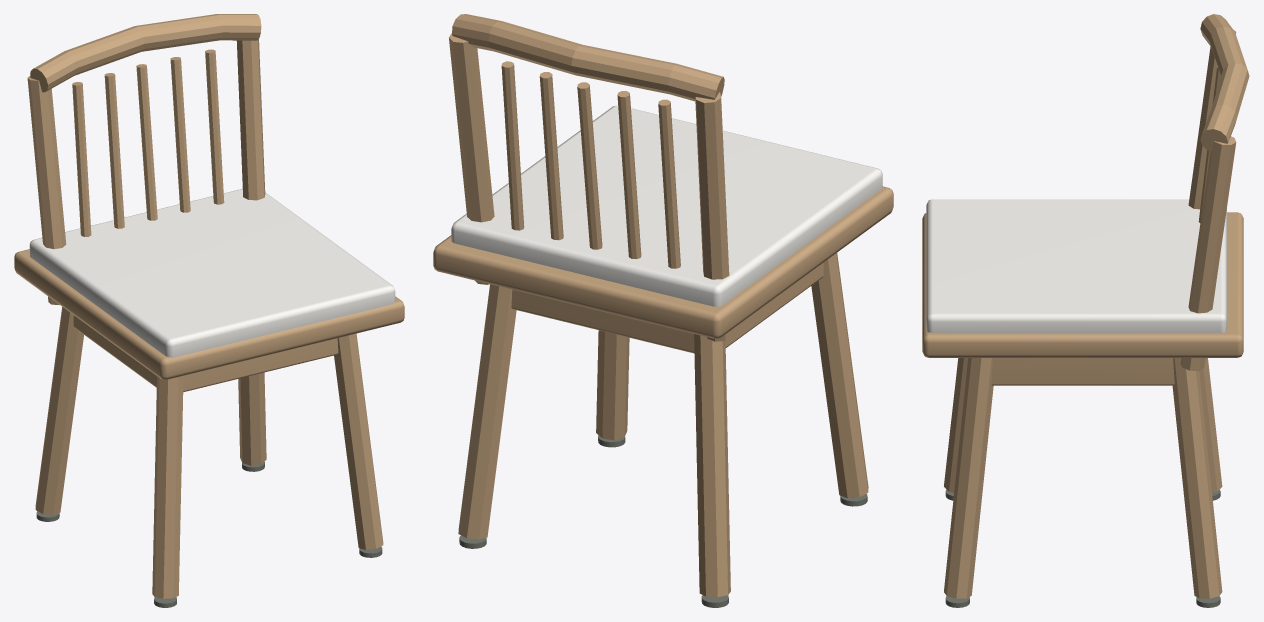
File: breakfast-nook-chair.glb
3 renders of one model, left to right at view 1: azimuth 30°, elevation 25°; view 2: azimuth 150°, elevation 25°; view 3: azimuth 270°, elevation 25°, orthographic. The views are drawn at different scales.
Parts seen in each view (by area): view 1: Tapered splayed leg; view 2: Tapered splayed leg; view 3: Tapered splayed leg.
Boxes of the visible parts, x1,y1,x2,y2 form: Tapered splayed leg: (14,14,404,607); Tapered splayed leg: (433,14,893,607); Tapered splayed leg: (922,14,1249,607).
Size of the model in its own units: 0.46 by 0.82 by 0.5.
